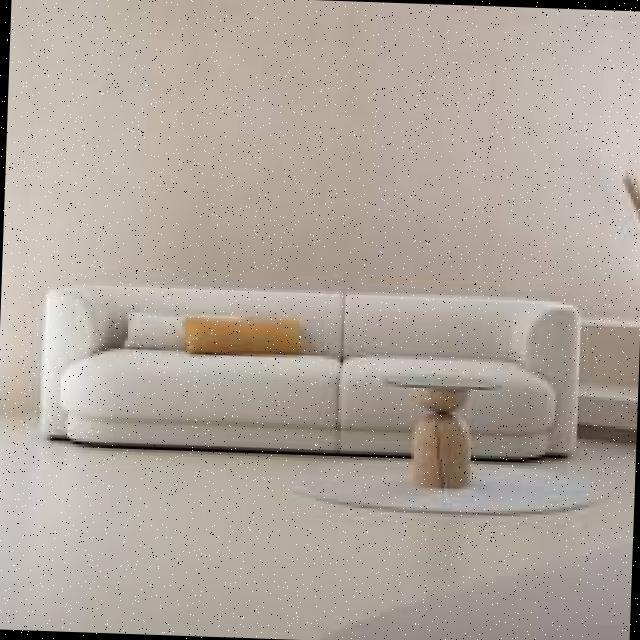Sofa: (10, 243, 618, 522)
